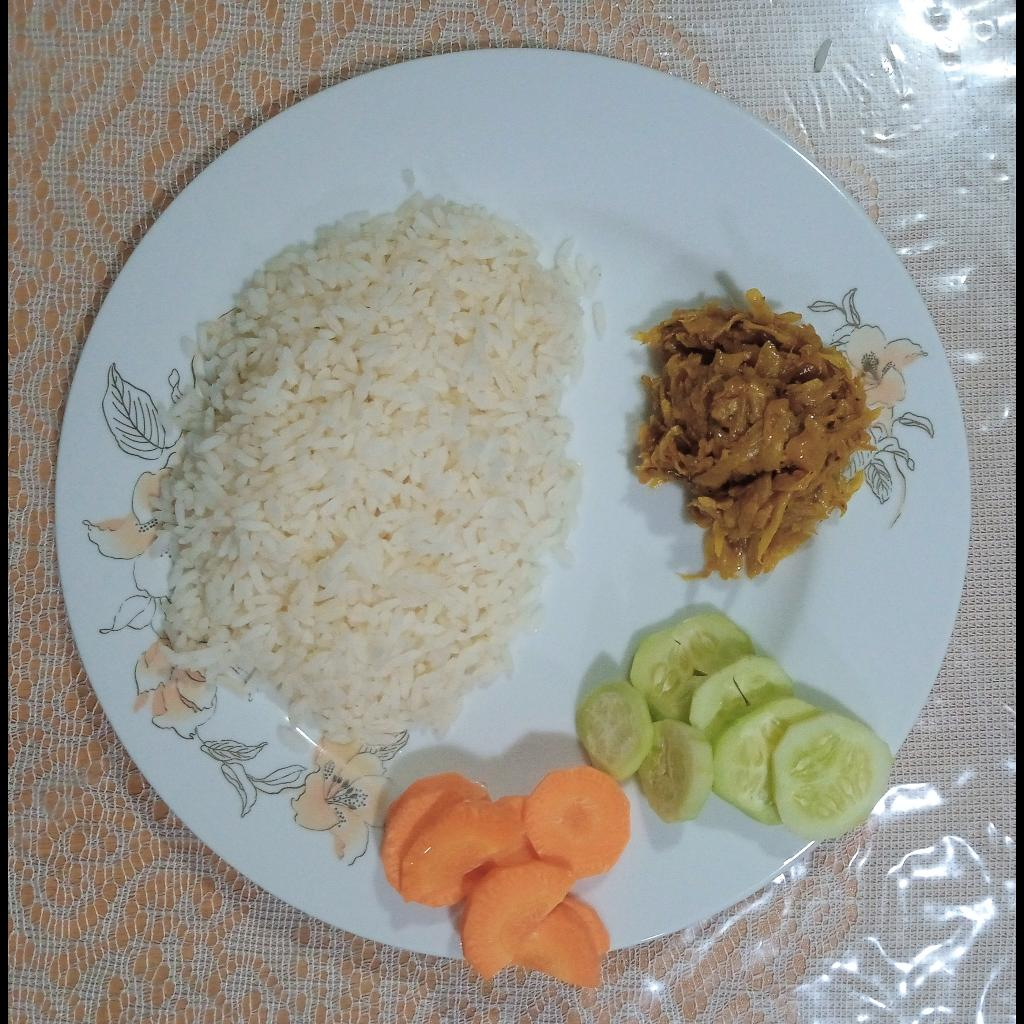cabbage: (631, 286, 884, 584)
carrot: (377, 766, 631, 993)
cucumber: (578, 606, 897, 845)
rice: (148, 192, 605, 755)
